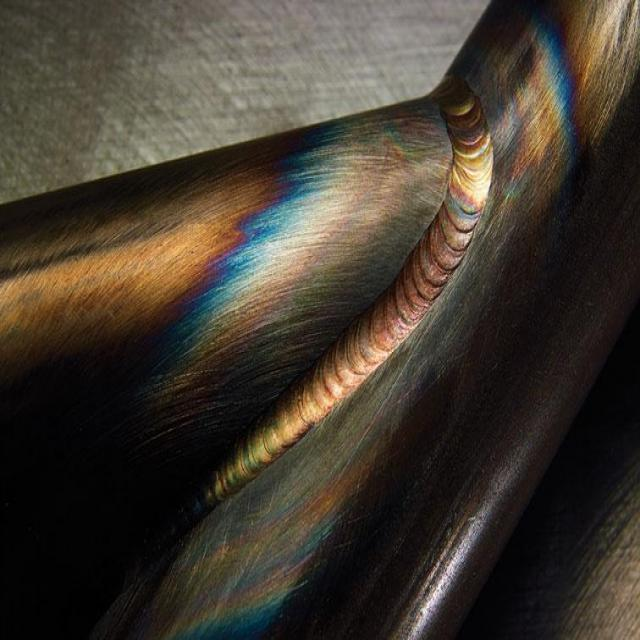Good Weld: (252, 283, 427, 389), (432, 86, 496, 301)
